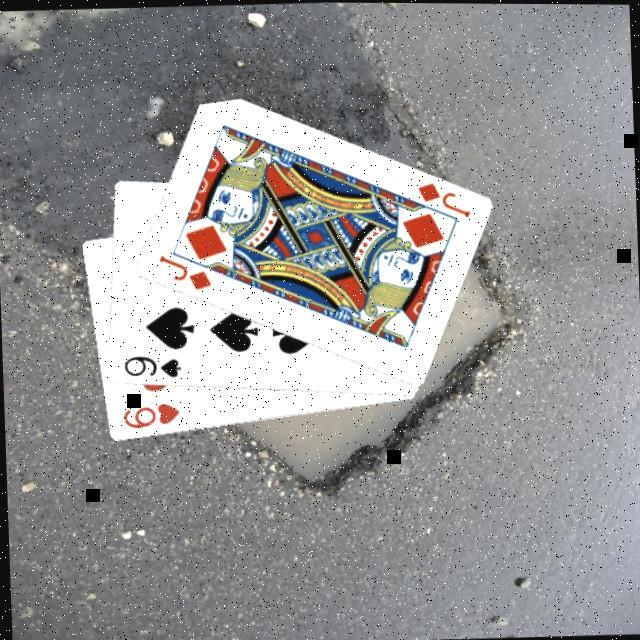6H: (119, 398, 182, 430)
9S: (120, 350, 185, 380)
JD: (414, 175, 474, 220), (155, 248, 214, 292)
